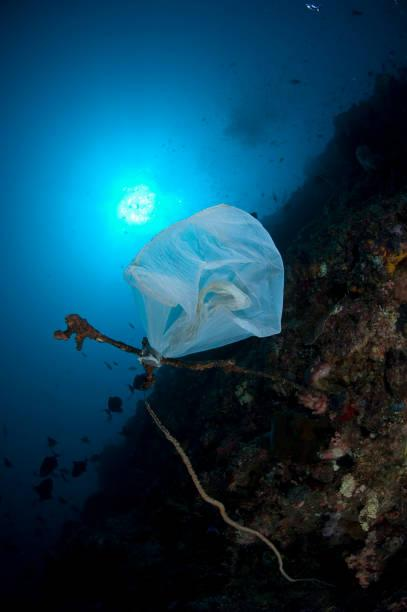Trash: (118, 203, 293, 365)
